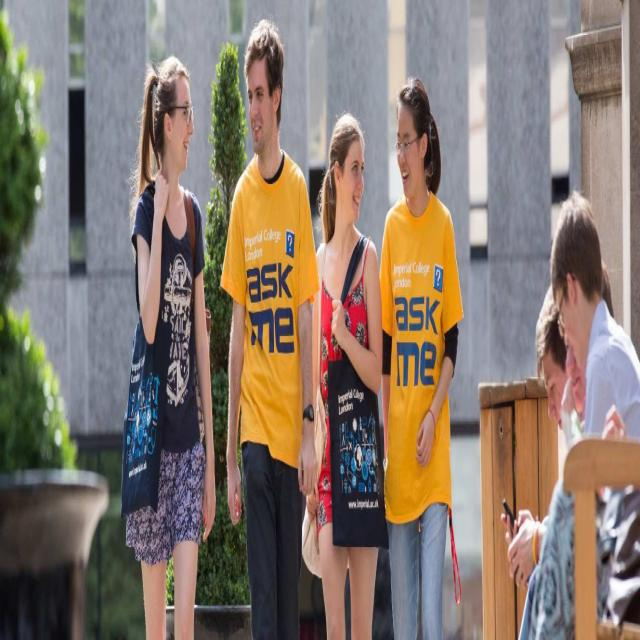body: (220, 11, 321, 639), (119, 47, 217, 639), (510, 187, 640, 627), (377, 69, 462, 639), (298, 103, 383, 639), (564, 255, 616, 418), (534, 277, 570, 435)
